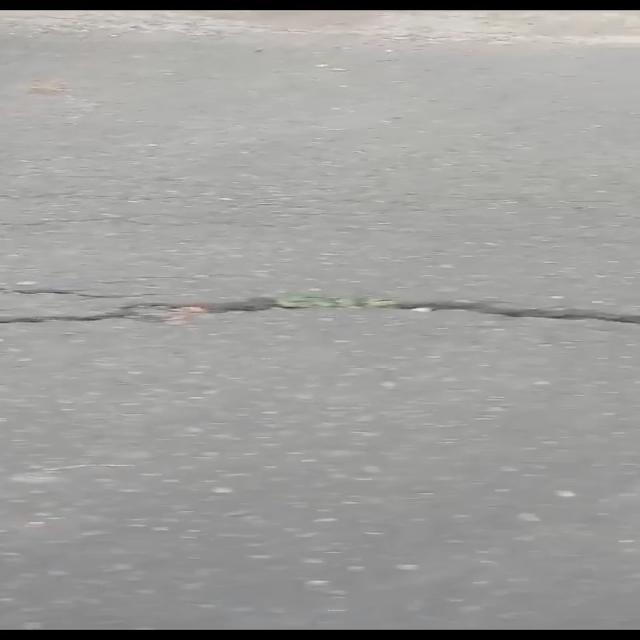Melintang: (0, 280, 640, 344)
